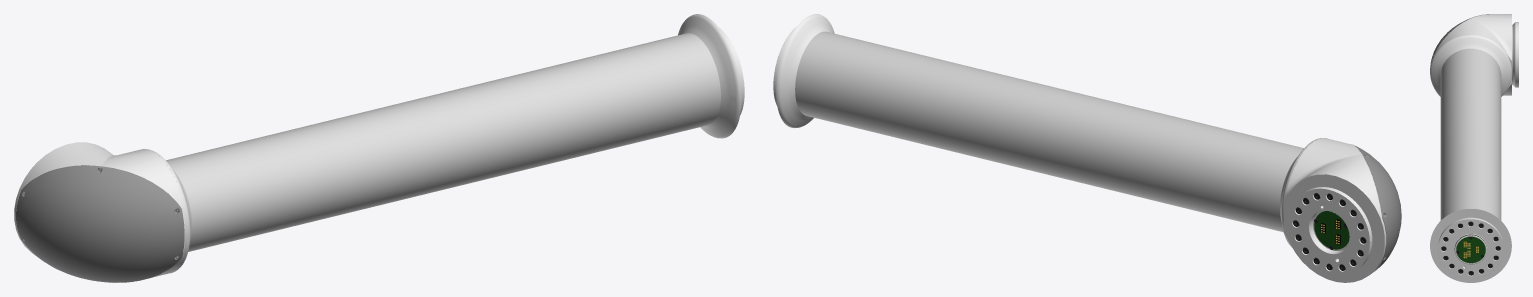
3 views of the same model, side by side, from view 1: azimuth 30°, elevation 25°; view 2: azimuth 150°, elevation 25°; view 3: azimuth 270°, elevation 25° (orthographic). The views are drawn at different scales.
Parts seen in each view (by area): view 1: L116.001; view 2: L116.001; view 3: L116.001.
Boxes of the visible parts, box(x1,y1,x2,y2) form: L116.001: box(14, 14, 744, 282); L116.001: box(773, 14, 1401, 282); L116.001: box(1430, 14, 1518, 282).
Size of the model in its own units: 0.7127 by 0.116 by 0.126.
